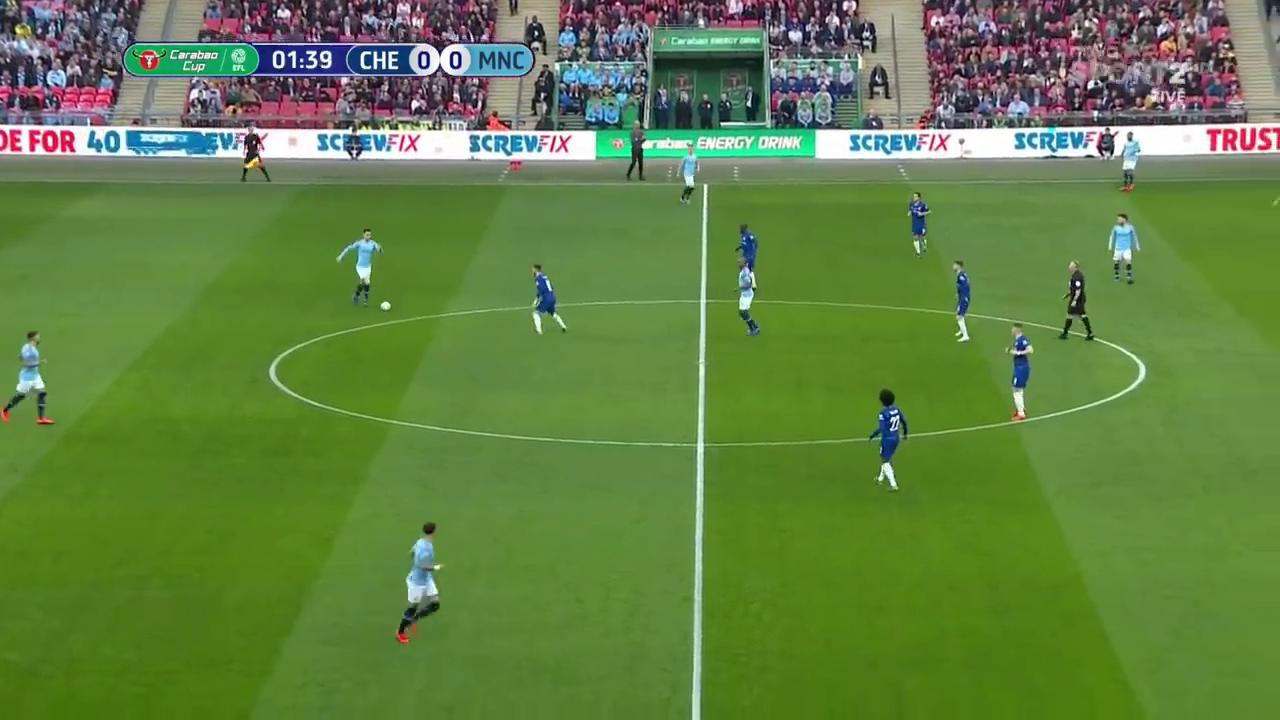ball: (379, 300, 392, 315)
player: (395, 517, 450, 645), (1, 325, 55, 431), (863, 383, 912, 498), (332, 225, 384, 310), (1001, 318, 1038, 426), (730, 257, 772, 338), (527, 261, 571, 337), (946, 255, 979, 346), (1104, 215, 1144, 284), (672, 146, 703, 208), (907, 189, 933, 260), (731, 219, 765, 272), (1121, 130, 1142, 195)
referee: (1055, 257, 1095, 343)
